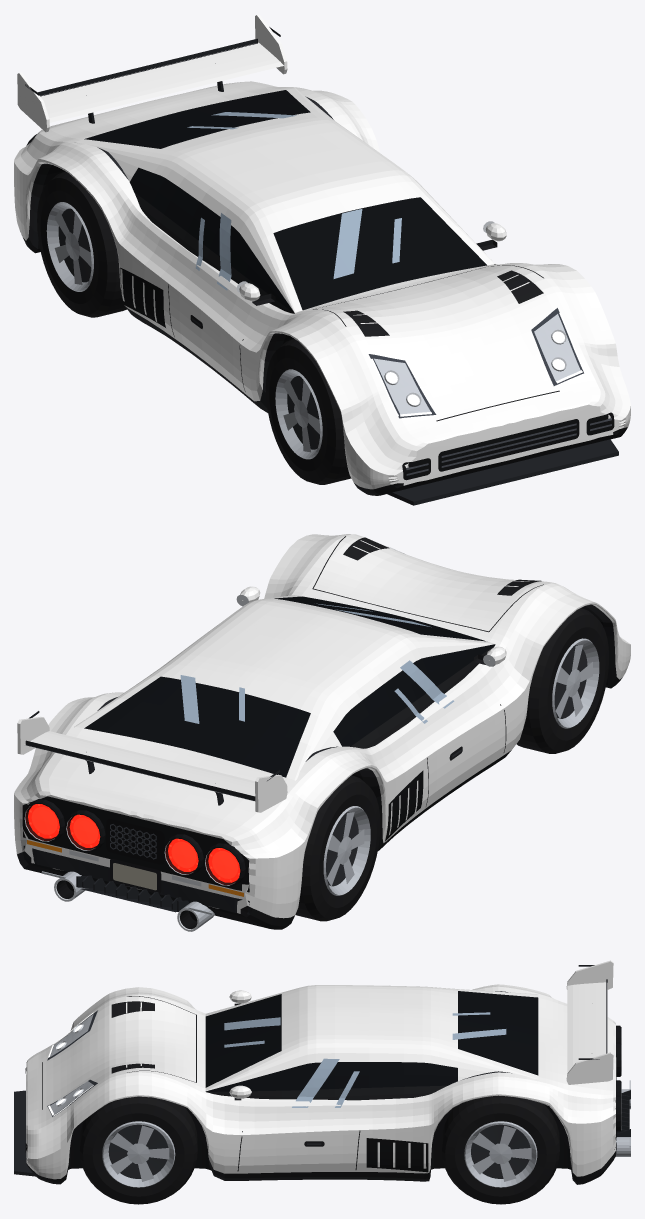
3 renders of one model, top to bottom at view 1: azimuth 30°, elevation 25°; view 2: azimuth 150°, elevation 25°; view 3: azimuth 270°, elevation 25°, orthographic. The views are drawn at different scales.
Visible parts, largest first — view 1: body, cabine, wheel_rr, wheel_fr, asa, divisor, lamp_head, entradas_frente, reflexo_vidro, asa_placas, entrada_ar_r, naca; view 2: body, cabine, wheel_fr, wheel_rr, lamp_tail, asa, painel_traseiro, saia_traseira, reflexo_vidro, grade_colmeia, asa_placas, difusor (+7 smaller); view 3: body, cabine, wheel_rl, wheel_fl, asa, reflexo_vidro, asa_placas, entrada_ar_l, divisor, lamp_head, naca, lamp_tail (+1 smaller).
Boxes of the visible parts, box(x1,y1,x2,y2) form: body: box(14, 81, 630, 495); cabine: box(74, 88, 495, 313); wheel_rr: box(37, 171, 126, 317); wheel_fr: box(265, 339, 351, 484); asa: box(38, 38, 283, 122); divisor: box(387, 439, 618, 505); lamp_head: box(368, 308, 584, 418); entradas_frente: box(402, 412, 614, 480); reflexo_vidro: box(187, 112, 401, 290); asa_placas: box(17, 14, 287, 132); entrada_ar_r: box(120, 267, 165, 327); naca: box(343, 270, 543, 336); body: box(14, 534, 630, 929); cabine: box(74, 595, 495, 780); wheel_fr: box(516, 608, 608, 753); wheel_rr: box(295, 775, 380, 921); lamp_tail: box(23, 799, 245, 886); asa: box(24, 731, 255, 801); painel_traseiro: box(22, 796, 249, 892); saia_traseira: box(23, 845, 250, 914); reflexo_vidro: box(180, 603, 454, 723); grade_colmeia: box(106, 818, 164, 864); asa_placas: box(17, 711, 287, 812); difusor: box(41, 871, 212, 914); body: box(26, 984, 616, 1184); cabine: box(205, 985, 538, 1100); wheel_rl: box(442, 1095, 559, 1204); wheel_fl: box(79, 1096, 197, 1204); asa: box(567, 979, 607, 1072); reflexo_vidro: box(224, 1012, 506, 1107); asa_placas: box(566, 960, 613, 1084); entrada_ar_l: box(366, 1138, 428, 1172); divisor: box(14, 1090, 35, 1176); lamp_head: box(47, 1010, 97, 1116); naca: box(111, 1001, 154, 1073); lamp_tail: box(615, 1025, 621, 1131).
Size of the model in its own units: 1.94 by 1.22 by 4.6.
